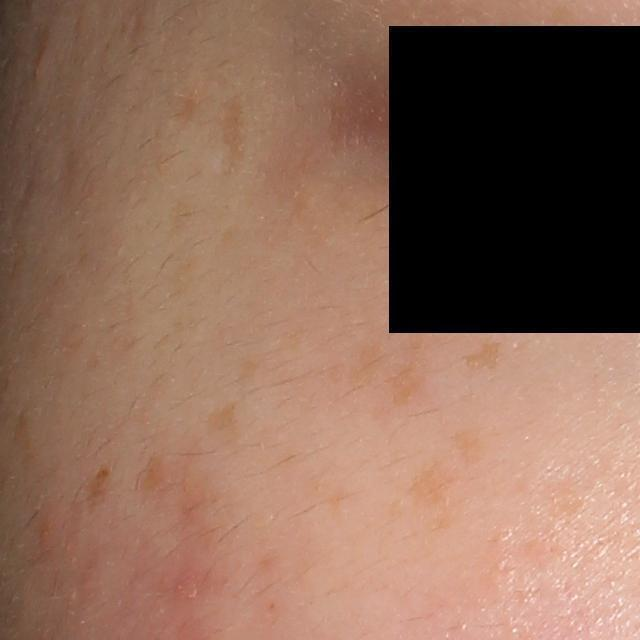melasma: (137, 443, 221, 550), (344, 338, 433, 409), (409, 458, 463, 539), (212, 95, 250, 187), (202, 399, 250, 450), (457, 335, 506, 377), (452, 425, 486, 474), (84, 464, 115, 515), (229, 356, 258, 395)
